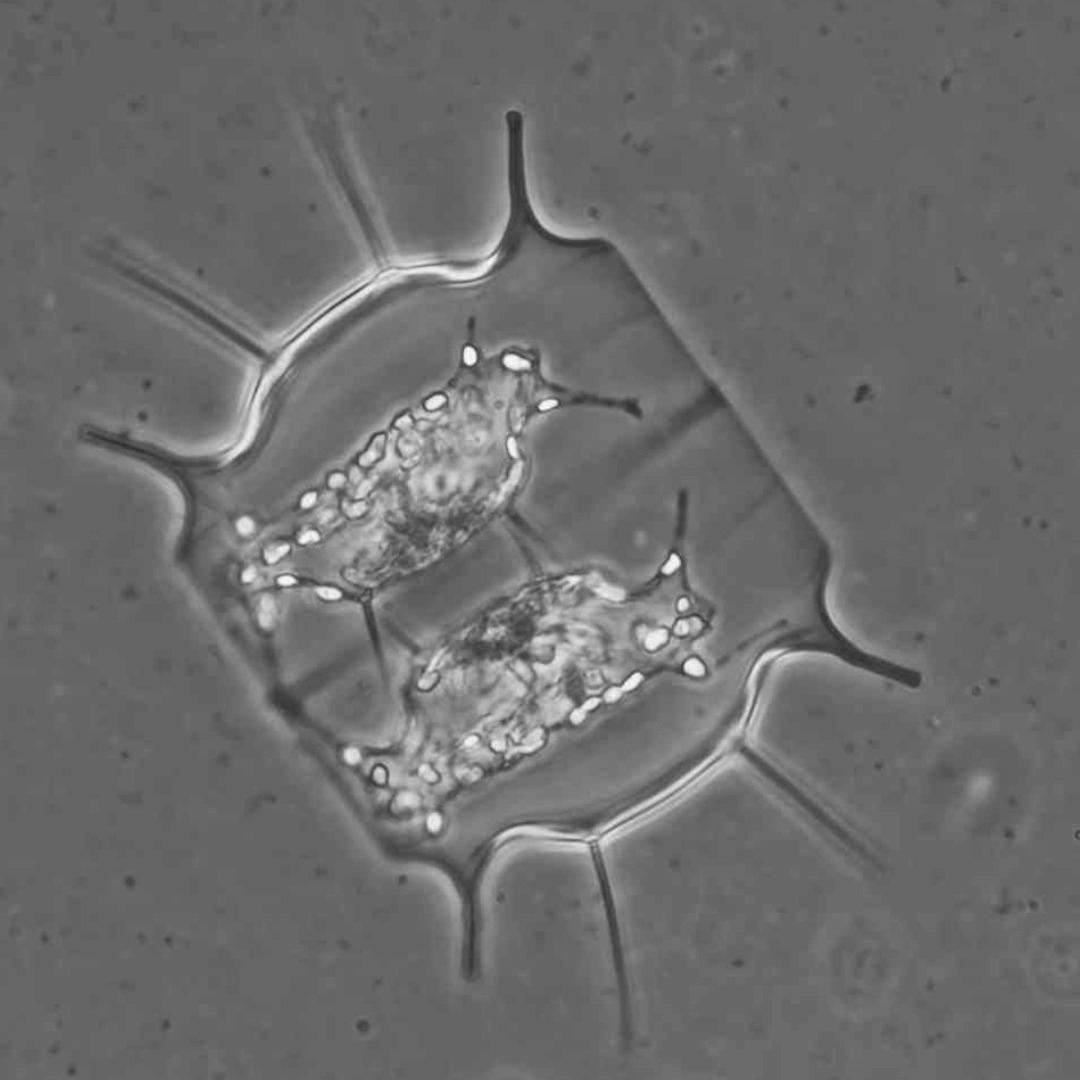odontella_mobiliensis: (80, 81, 923, 1053)
